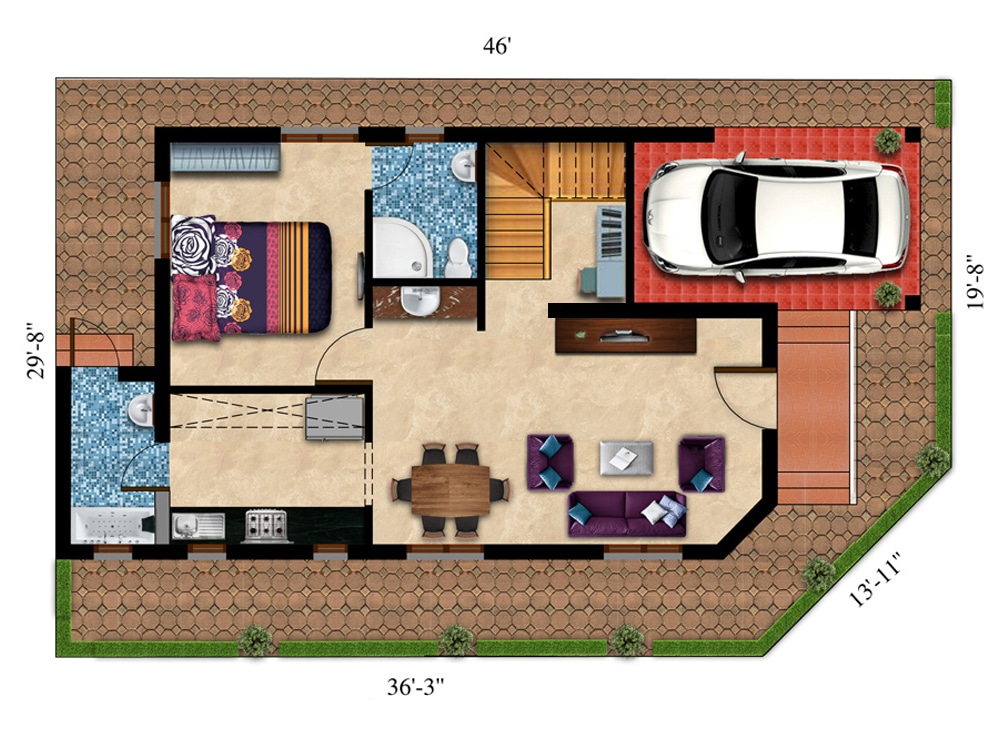door: (704, 355, 755, 433), (64, 312, 127, 364), (314, 332, 362, 382)
room: (358, 303, 779, 560), (152, 123, 379, 400), (159, 383, 378, 560), (473, 120, 639, 319), (53, 365, 167, 565), (359, 123, 485, 285), (360, 125, 484, 289)
window: (278, 126, 361, 150), (602, 538, 685, 562), (402, 536, 485, 560), (89, 538, 137, 565), (183, 539, 230, 558), (308, 543, 349, 564)
